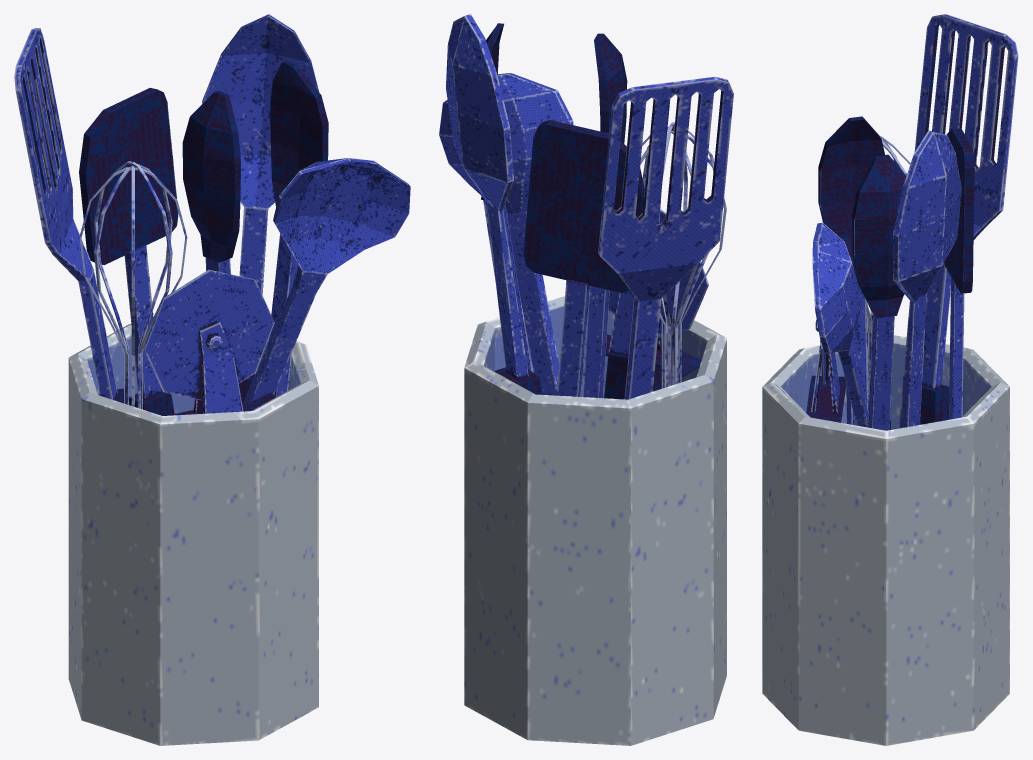
Rendered from PotKeukenGerei.fbx.
3 renders of one model, left to right at view 1: azimuth 30°, elevation 25°; view 2: azimuth 150°, elevation 25°; view 3: azimuth 270°, elevation 25°, orthographic. The views are drawn at different scales.
Parts seen in each view (by area): view 1: Cylinder, Klem.001, Pannenlikker.002, JusLepel.001, PizzaMes.001, Lepel.001, Spatel.001, Garde.001; view 2: Cylinder, Spatel.001, Pannenlikker.002, Lepel.001, JusLepel.001, Klem.001, PizzaMes.001, Garde.001; view 3: Cylinder, Spatel.001, Klem.001, Lepel.001, JusLepel.001, Pannenlikker.002, PizzaMes.001, Garde.001.
Boxes of the visible parts, bbox=[...] form: Cylinder: bbox=[68, 324, 318, 745]; Klem.001: bbox=[182, 60, 328, 396]; Pannenlikker.002: bbox=[79, 88, 178, 415]; JusLepel.001: bbox=[243, 158, 410, 403]; PizzaMes.001: bbox=[143, 269, 275, 415]; Lepel.001: bbox=[202, 14, 318, 403]; Spatel.001: bbox=[14, 28, 129, 405]; Garde.001: bbox=[79, 161, 187, 409]; Cylinder: bbox=[464, 296, 726, 745]; Spatel.001: bbox=[598, 76, 733, 399]; Pannenlikker.002: bbox=[523, 120, 644, 396]; Lepel.001: bbox=[446, 14, 542, 394]; JusLepel.001: bbox=[439, 73, 573, 395]; Klem.001: bbox=[481, 23, 627, 398]; PizzaMes.001: bbox=[584, 209, 708, 399]; Garde.001: bbox=[640, 122, 726, 388]; Cylinder: bbox=[762, 335, 1009, 745]; Spatel.001: bbox=[914, 14, 1018, 424]; Klem.001: bbox=[818, 116, 906, 430]; Lepel.001: bbox=[893, 130, 961, 428]; JusLepel.001: bbox=[812, 222, 868, 427]; Pannenlikker.002: bbox=[944, 128, 974, 419]; PizzaMes.001: bbox=[806, 320, 846, 422]; Garde.001: bbox=[866, 136, 910, 429].
Size of the model in its own units: 23.45 by 42.86 by 16.2.
